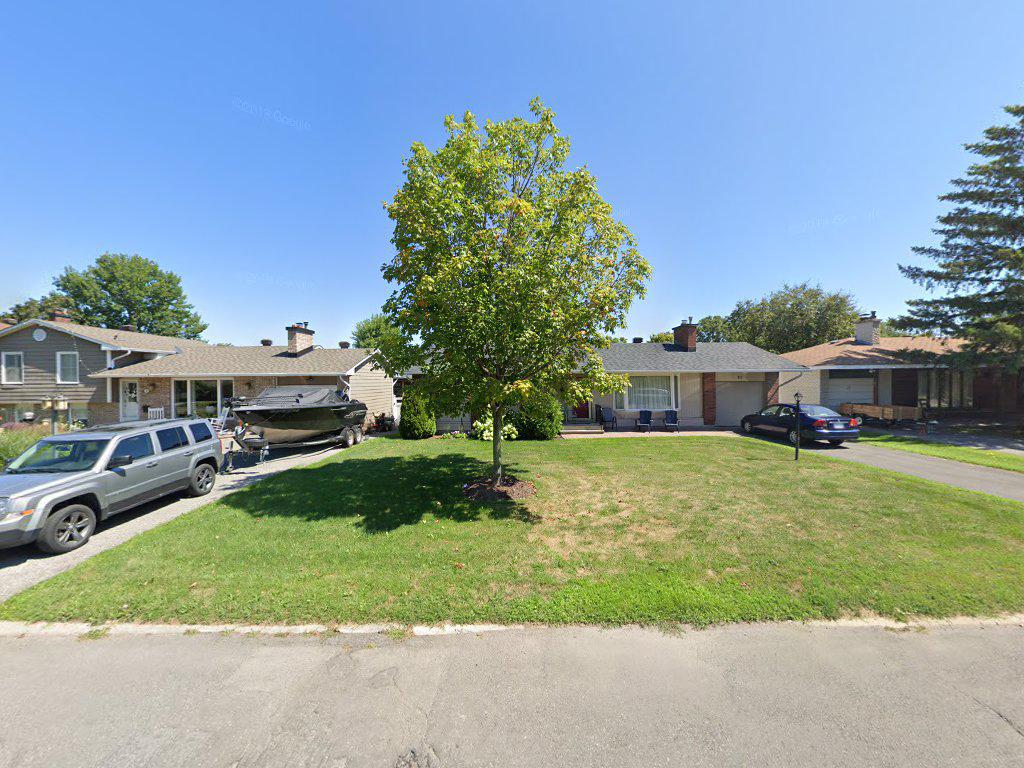trunk: (483, 402, 515, 498)
